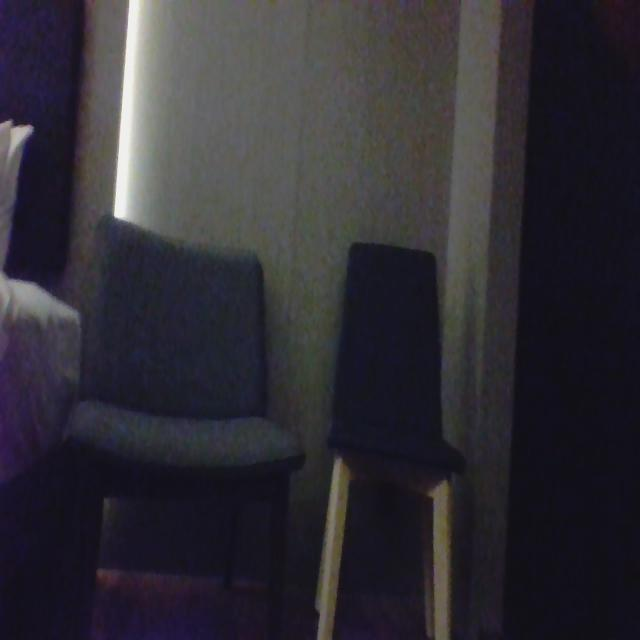empty: (98, 210, 283, 449), (338, 241, 439, 448)
